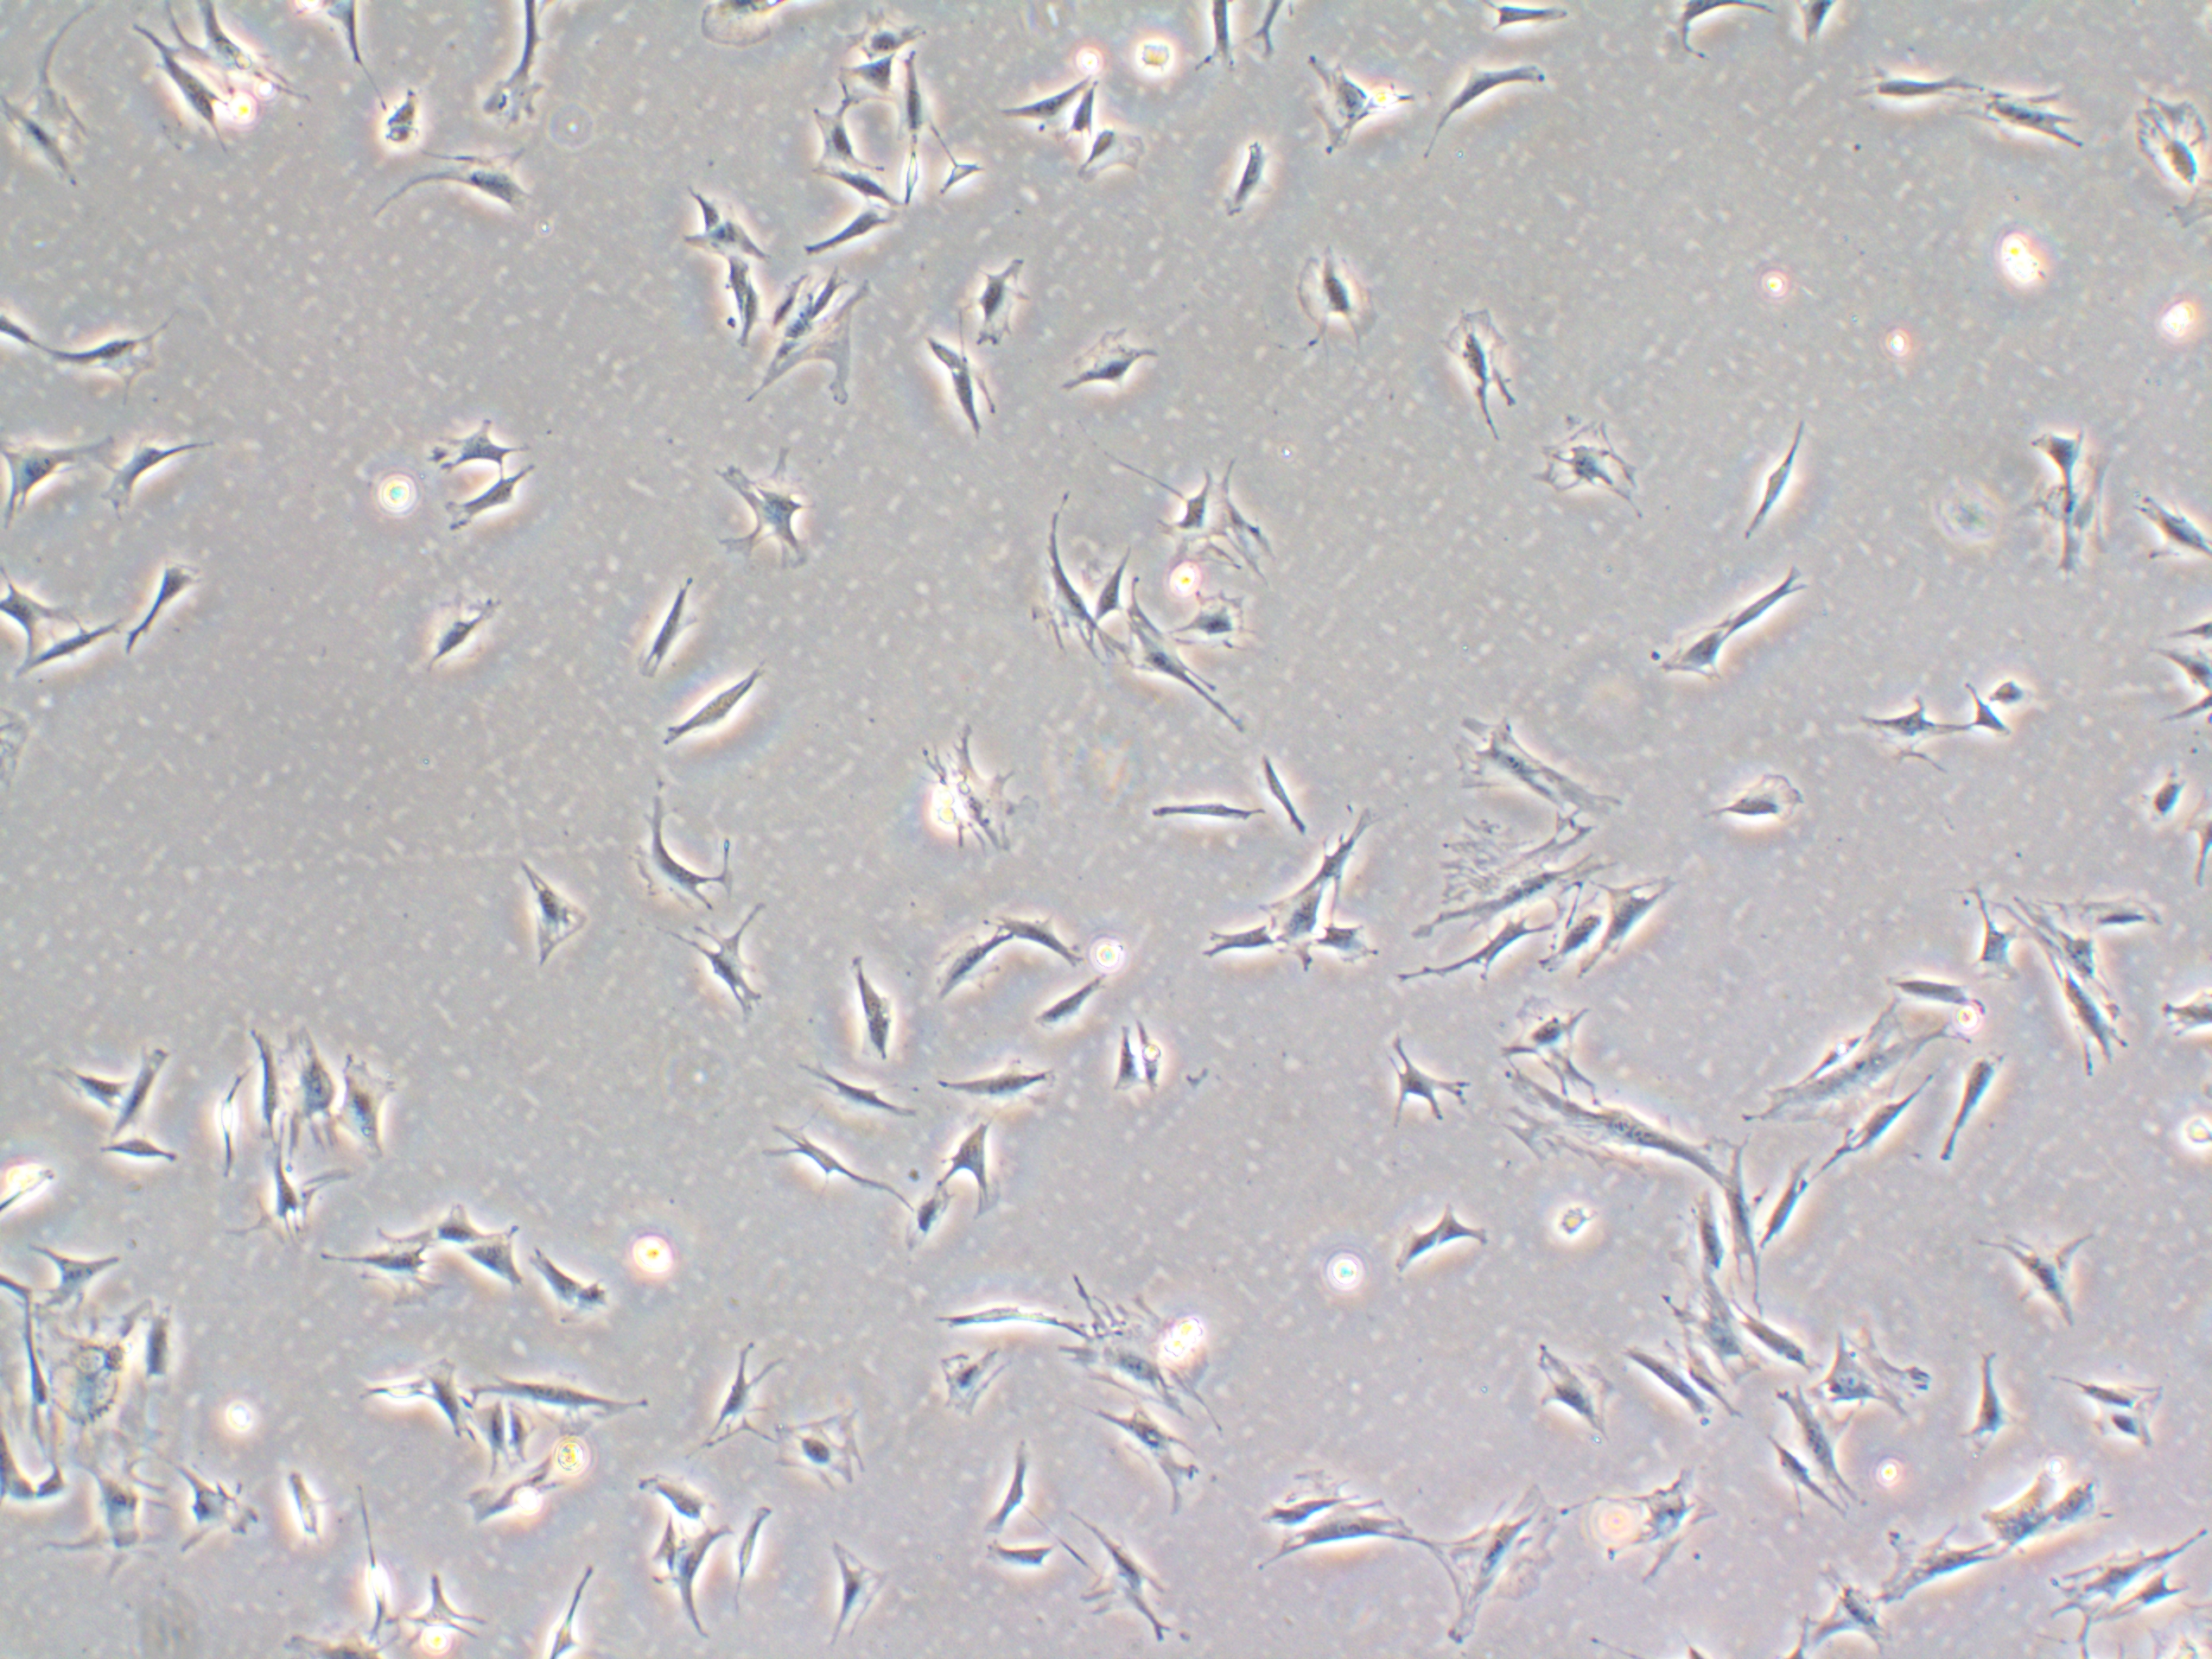polygonal: (1106, 568, 1256, 748), (1432, 697, 1629, 821), (1512, 1073, 1726, 1185), (1012, 498, 1122, 681), (110, 40, 246, 179), (1399, 896, 1559, 1012), (469, 1354, 665, 1446), (366, 134, 554, 228), (1407, 49, 1564, 160), (754, 1121, 923, 1222), (167, 2, 314, 117), (1731, 404, 1855, 540), (1282, 246, 1399, 389), (1573, 857, 1683, 1009), (714, 455, 840, 587), (599, 556, 721, 692), (1249, 1492, 1421, 1586), (622, 798, 749, 925), (1691, 742, 1857, 840), (113, 538, 218, 690), (650, 647, 773, 772), (1080, 1410, 1216, 1521), (310, 1209, 451, 1314), (657, 162, 787, 270), (906, 336, 1024, 455), (970, 884, 1122, 974), (1926, 1044, 2010, 1206), (331, 1035, 423, 1182), (768, 207, 920, 296), (94, 404, 207, 523), (681, 927, 803, 1037), (507, 829, 599, 972), (392, 582, 521, 683), (1822, 1066, 1939, 1178), (37, 305, 185, 390), (1515, 1333, 1629, 1445), (1435, 301, 1522, 446), (1703, 1140, 1789, 1284), (1977, 1230, 2101, 1328), (16, 599, 138, 697), (779, 1051, 923, 1133), (531, 1234, 634, 1349), (1768, 1366, 1862, 1492), (899, 1286, 1092, 1347), (0, 423, 118, 523), (693, 1326, 786, 1452), (1876, 1516, 2005, 1605), (719, 1471, 794, 1622), (1872, 946, 2000, 1035), (914, 1112, 1022, 1216), (1362, 1030, 1477, 1127), (949, 237, 1033, 369), (1857, 47, 1996, 125), (1122, 779, 1278, 849), (239, 1152, 338, 1260), (24, 1222, 132, 1321), (808, 1527, 895, 1649), (1050, 321, 1169, 410), (773, 98, 895, 181), (169, 1462, 258, 1575), (1714, 556, 1844, 633), (428, 464, 571, 533), (98, 1039, 188, 1148), (1254, 852, 1329, 985), (409, 413, 559, 479), (841, 951, 928, 1065), (453, 1197, 550, 1298), (930, 1058, 1078, 1124), (914, 927, 1033, 1009), (1615, 1326, 1710, 1425), (968, 1432, 1054, 1542), (1385, 1201, 1491, 1286), (1759, 1143, 1827, 1272), (1853, 699, 1972, 772), (1252, 741, 1334, 845), (132, 1281, 209, 1392), (408, 1349, 481, 1466), (625, 1453, 740, 1525), (1003, 64, 1097, 152), (968, 1528, 1076, 1603), (1672, 1182, 1750, 1283), (1217, 124, 1292, 228), (1028, 958, 1115, 1047), (2047, 1359, 2168, 1422), (899, 42, 963, 160), (263, 1455, 336, 1558), (1952, 1345, 2017, 1457), (716, 240, 773, 364), (1073, 117, 1174, 186), (0, 572, 98, 643), (1080, 530, 1144, 638), (1310, 807, 1371, 920), (1728, 1297, 1808, 1380), (1170, 915, 1280, 976), (1313, 917, 1399, 995), (47, 1056, 141, 1124), (813, 152, 907, 220), (2029, 401, 2090, 504), (1127, 1002, 1186, 1105), (1684, 1323, 1740, 1431), (78, 1134, 207, 1178), (1460, 0, 1606, 35), (836, 44, 914, 108), (1061, 64, 1115, 152), (1106, 1016, 1146, 1112), (1956, 688, 2015, 748)
small: (2127, 774, 2186, 836)
small-round: (1984, 669, 2034, 704)
spread: (1724, 995, 1961, 1131), (1406, 1480, 1575, 1659), (1402, 805, 1615, 943), (1052, 1295, 1223, 1431), (897, 713, 1049, 863), (268, 1021, 331, 1178)
